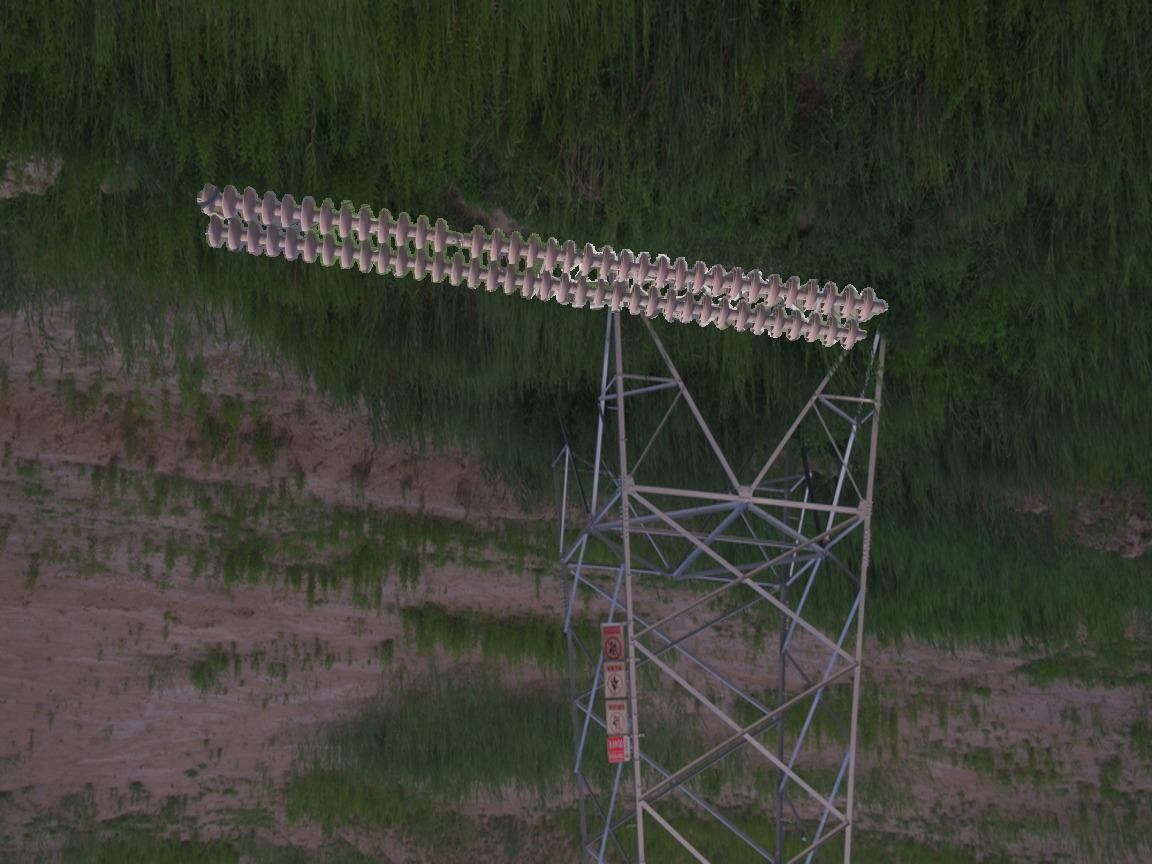insulator: (193, 178, 887, 353)
insulator_stringdrop: (430, 215, 487, 262)
